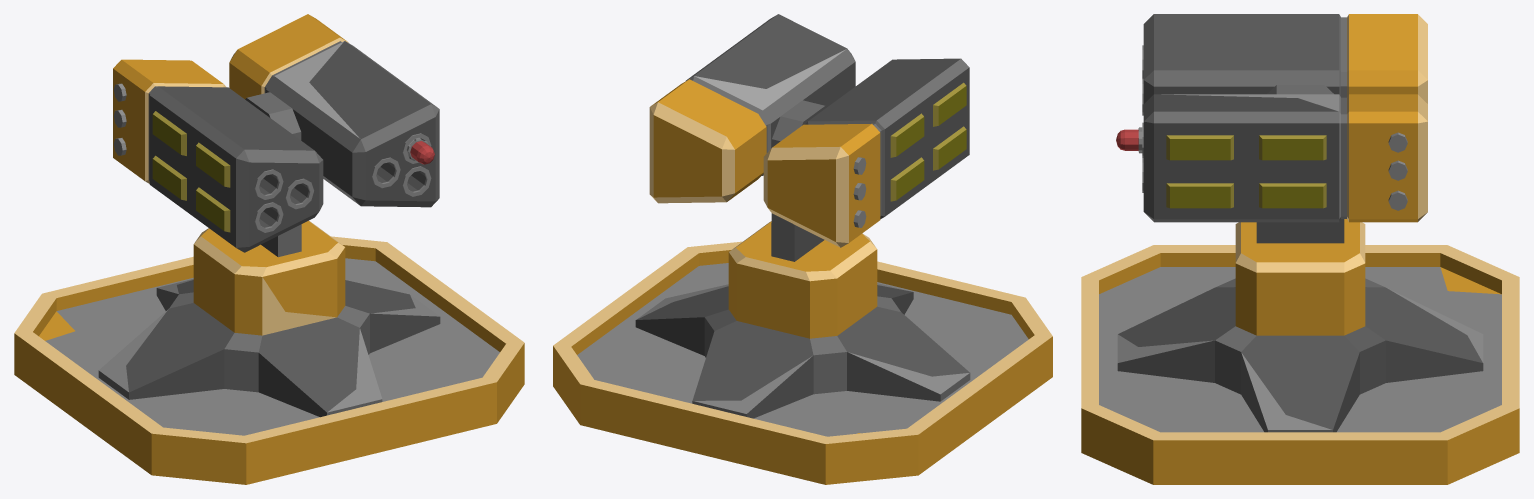
Rendered from tower_rocket_yellow_1.fbx.
3 renders of one model, left to right at view 1: azimuth 30°, elevation 25°; view 2: azimuth 150°, elevation 25°; view 3: azimuth 270°, elevation 25°, orthographic. The views are drawn at different scales.
Visible parts, largest first — view 1: top_rocket_yellow_1, tower_rocket_yellow_1, rocket_yellow_1; view 2: top_rocket_yellow_1, tower_rocket_yellow_1; view 3: top_rocket_yellow_1, tower_rocket_yellow_1, rocket_yellow_1.
Boxes of the visible parts, bbox=[...] form: top_rocket_yellow_1: bbox=[98, 14, 440, 417]; tower_rocket_yellow_1: bbox=[14, 236, 524, 484]; rocket_yellow_1: bbox=[406, 137, 434, 164]; top_rocket_yellow_1: bbox=[635, 14, 970, 418]; tower_rocket_yellow_1: bbox=[553, 241, 1052, 484]; top_rocket_yellow_1: bbox=[1117, 14, 1483, 432]; tower_rocket_yellow_1: bbox=[1081, 245, 1519, 484]; rocket_yellow_1: bbox=[1116, 127, 1142, 153].
Size of the model in its own units: 158 by 123 by 150.
